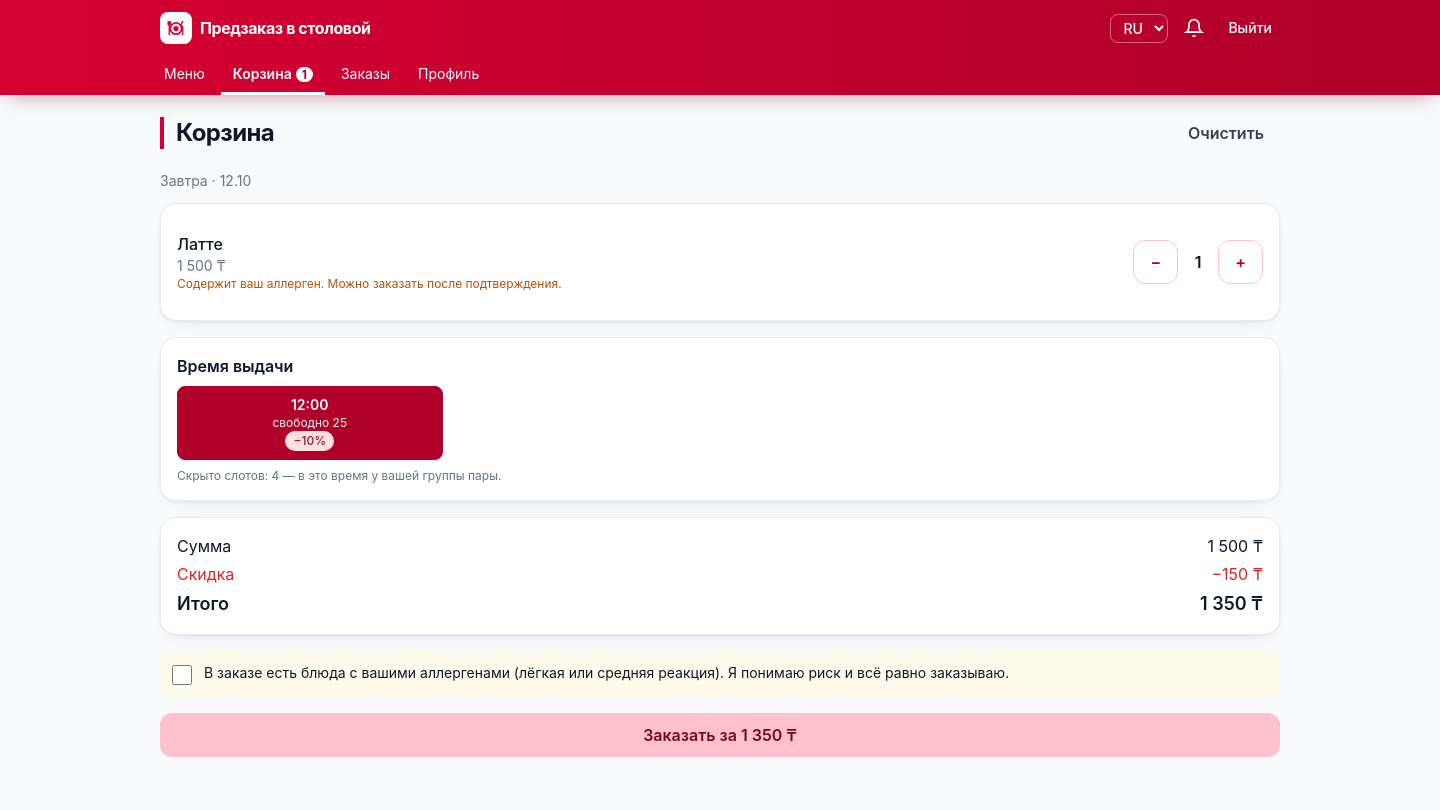
cart page › requires the allergy confirmation for warned dishes
The width and height of the screenshot is (1440, 810).
expect the button "Заказать за 1 350 ₸" is disabled: met, box 160,713 -> 1280,757
Step 1. Click the checkbox → x=182, y=675, box 172,665 -> 192,685
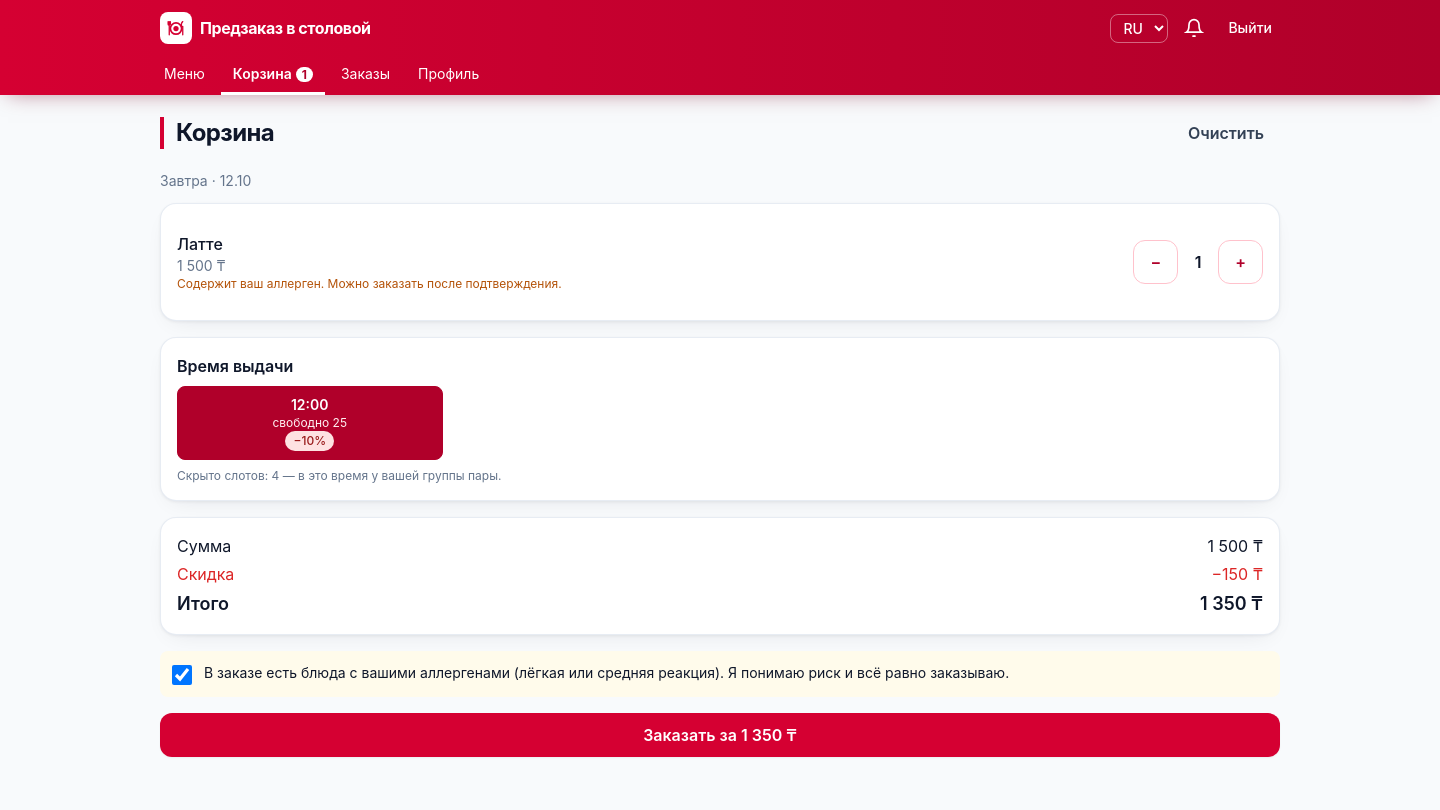
expect the button "Заказать за 1 350 ₸" is enabled: met, box 160,713 -> 1280,757
